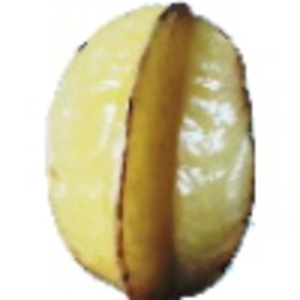carambola: (46, 1, 257, 300)
